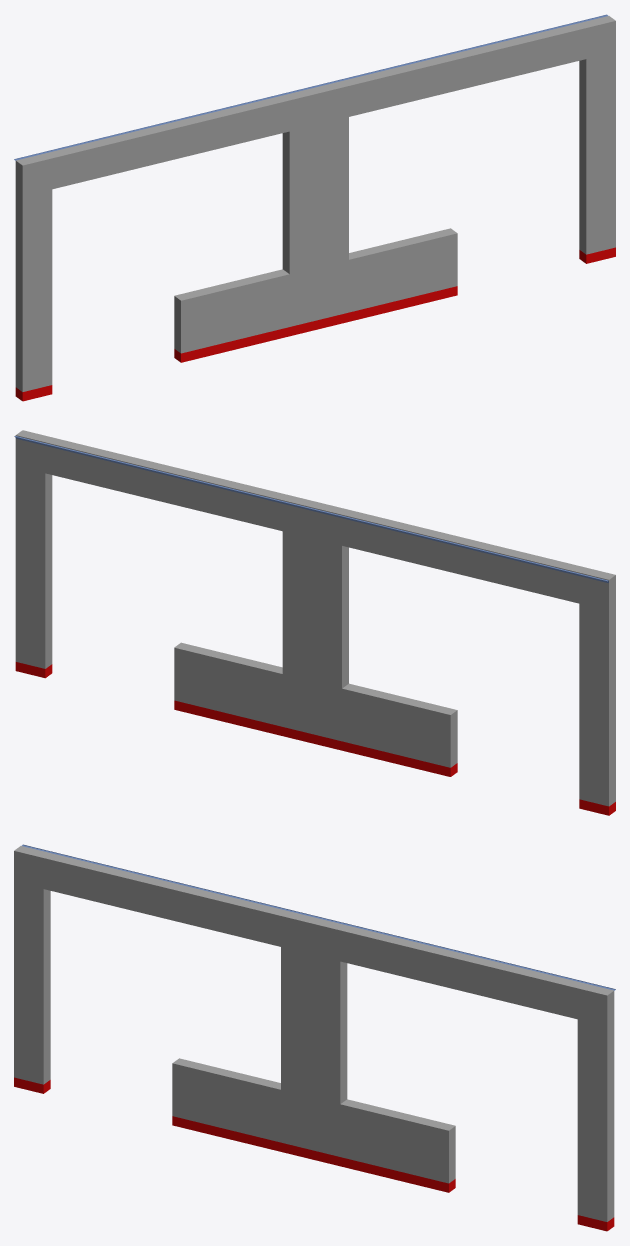
File: Classroom_Door_Wall_01_Snaps014.fbx
3 views of the same model, one above another, from view 1: azimuth 30°, elevation 25°; view 2: azimuth 150°, elevation 25°; view 3: azimuth 330°, elevation 25° (orthographic).
Parts seen in each view (by area): view 1: Classroom_Door_Wall_01; view 2: Classroom_Door_Wall_01; view 3: Classroom_Door_Wall_01.
Boxes of the visible parts, <box> form: Classroom_Door_Wall_01: <box>14,14,615,401</box>; Classroom_Door_Wall_01: <box>14,430,615,815</box>; Classroom_Door_Wall_01: <box>14,844,615,1231</box>.
Size of the model in its own units: 1000 by 380 by 25.32.
